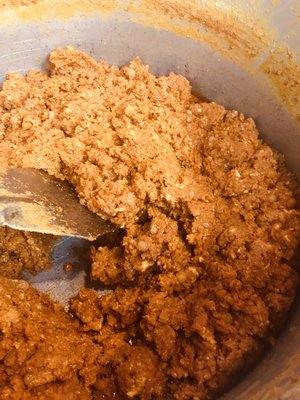sushi: (0, 44, 300, 398)
